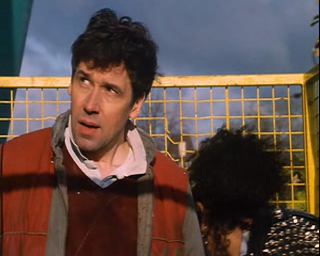face: (71, 63, 127, 151)
mcu: (1, 1, 320, 256)
person: (1, 8, 205, 256)
